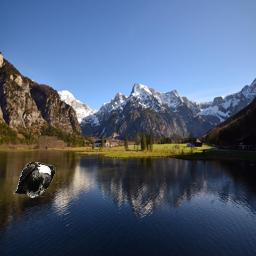Crow: (13, 161, 56, 199)
